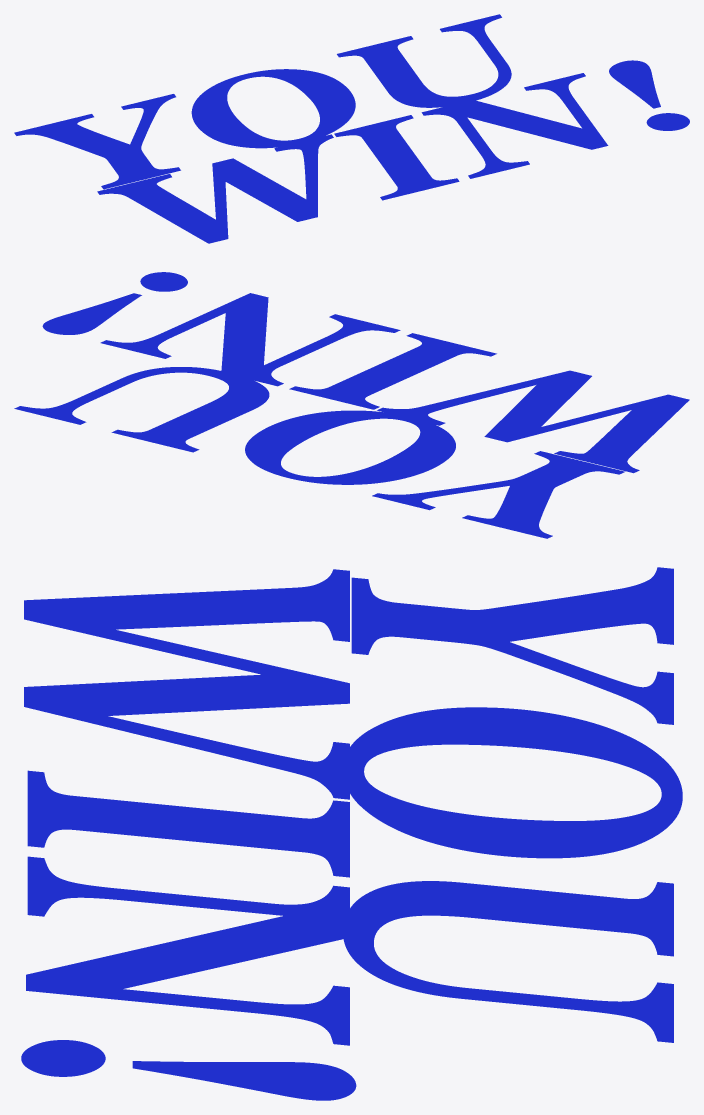
Rendered from blueWin.gltf.
3 views of the same model, one above another, from view 1: azimuth 30°, elevation 25°; view 2: azimuth 150°, elevation 25°; view 3: azimuth 270°, elevation 25° (orthographic). The views are drawn at different scales.
Parts seen in each view (by area): view 1: Red; view 2: Red; view 3: Red.
Part boxes in pixels (box(x1,y1,x2,y2)): Red: box(14, 14, 689, 243); Red: box(14, 272, 689, 538); Red: box(21, 567, 682, 1100).
Size of the model in its own units: 5.53 by 0 by 2.9.
